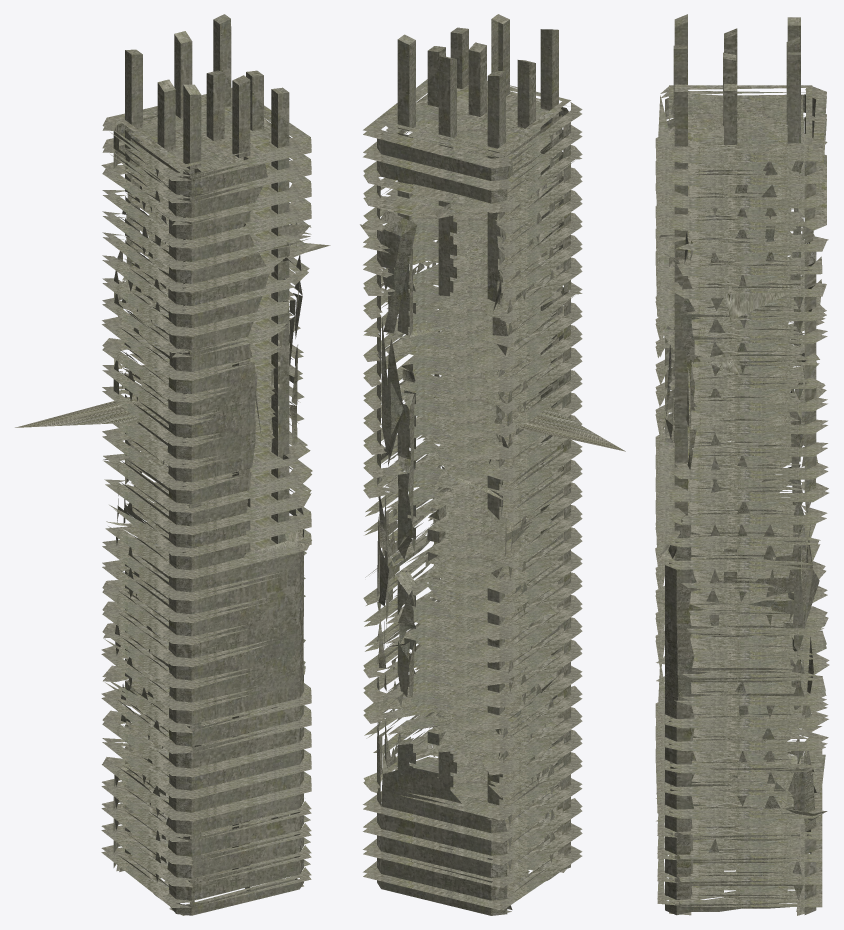
Rendered from yikinti_c.gltf.
3 views of the same model, side by side, from view 1: azimuth 30°, elevation 25°; view 2: azimuth 150°, elevation 25°; view 3: azimuth 270°, elevation 25° (orthographic). The views are drawn at different scales.
Visible parts, largest first — view 1: yikinti_c; view 2: yikinti_c; view 3: yikinti_c.
Boxes of the visible parts, x1=… form: yikinti_c: x1=15, y1=14, x2=330, y2=915; yikinti_c: x1=360, y1=14, x2=625, y2=915; yikinti_c: x1=655, y1=14, x2=829, y2=915.
Size of what is drawn, in the model's own units: 30.6 by 83.84 by 15.61.
1 material, 1 textured.
